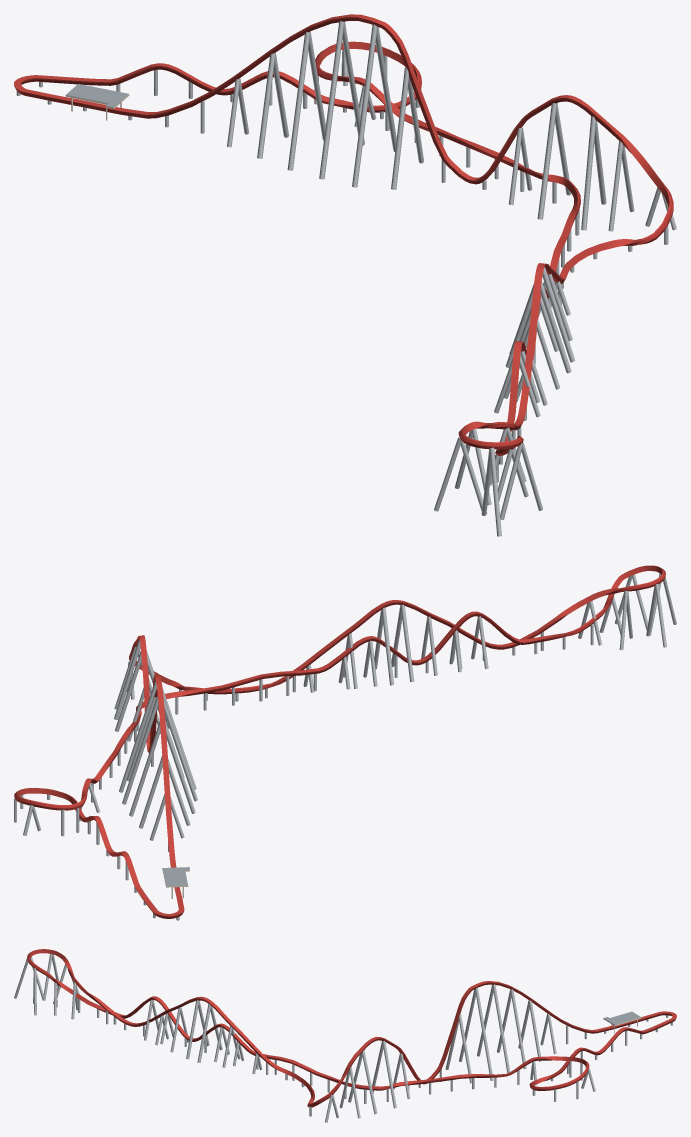
The model's file is carowinds-thunder-striker.glb.
The picture shows the model from 3 angles, top to bottom: view 1: azimuth 30°, elevation 25°; view 2: azimuth 150°, elevation 25°; view 3: azimuth 270°, elevation 25°; orthographic projection. The views are drawn at different scales.
Parts seen in each view (by area): view 1: Thunder Striker; view 2: Thunder Striker; view 3: Thunder Striker.
Boxes of the visible parts, left/top/right/bottom form: Thunder Striker: left=14, top=14, right=676, bottom=536; Thunder Striker: left=14, top=565, right=676, bottom=920; Thunder Striker: left=14, top=949, right=676, bottom=1122.
Size of the model in its own units: 239 by 76.67 by 502.
